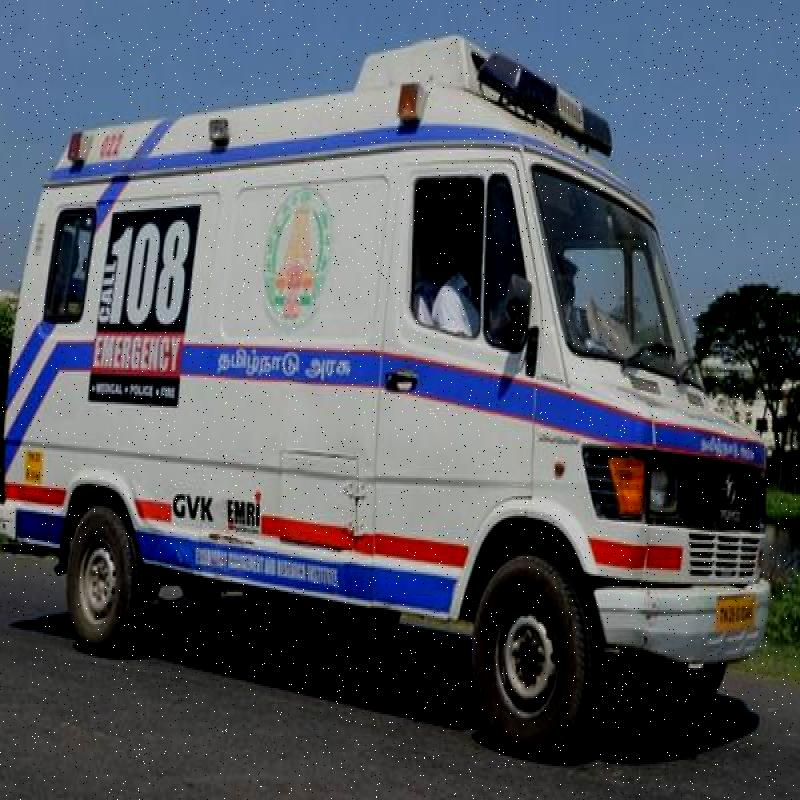ambulance: (19, 51, 764, 735)
